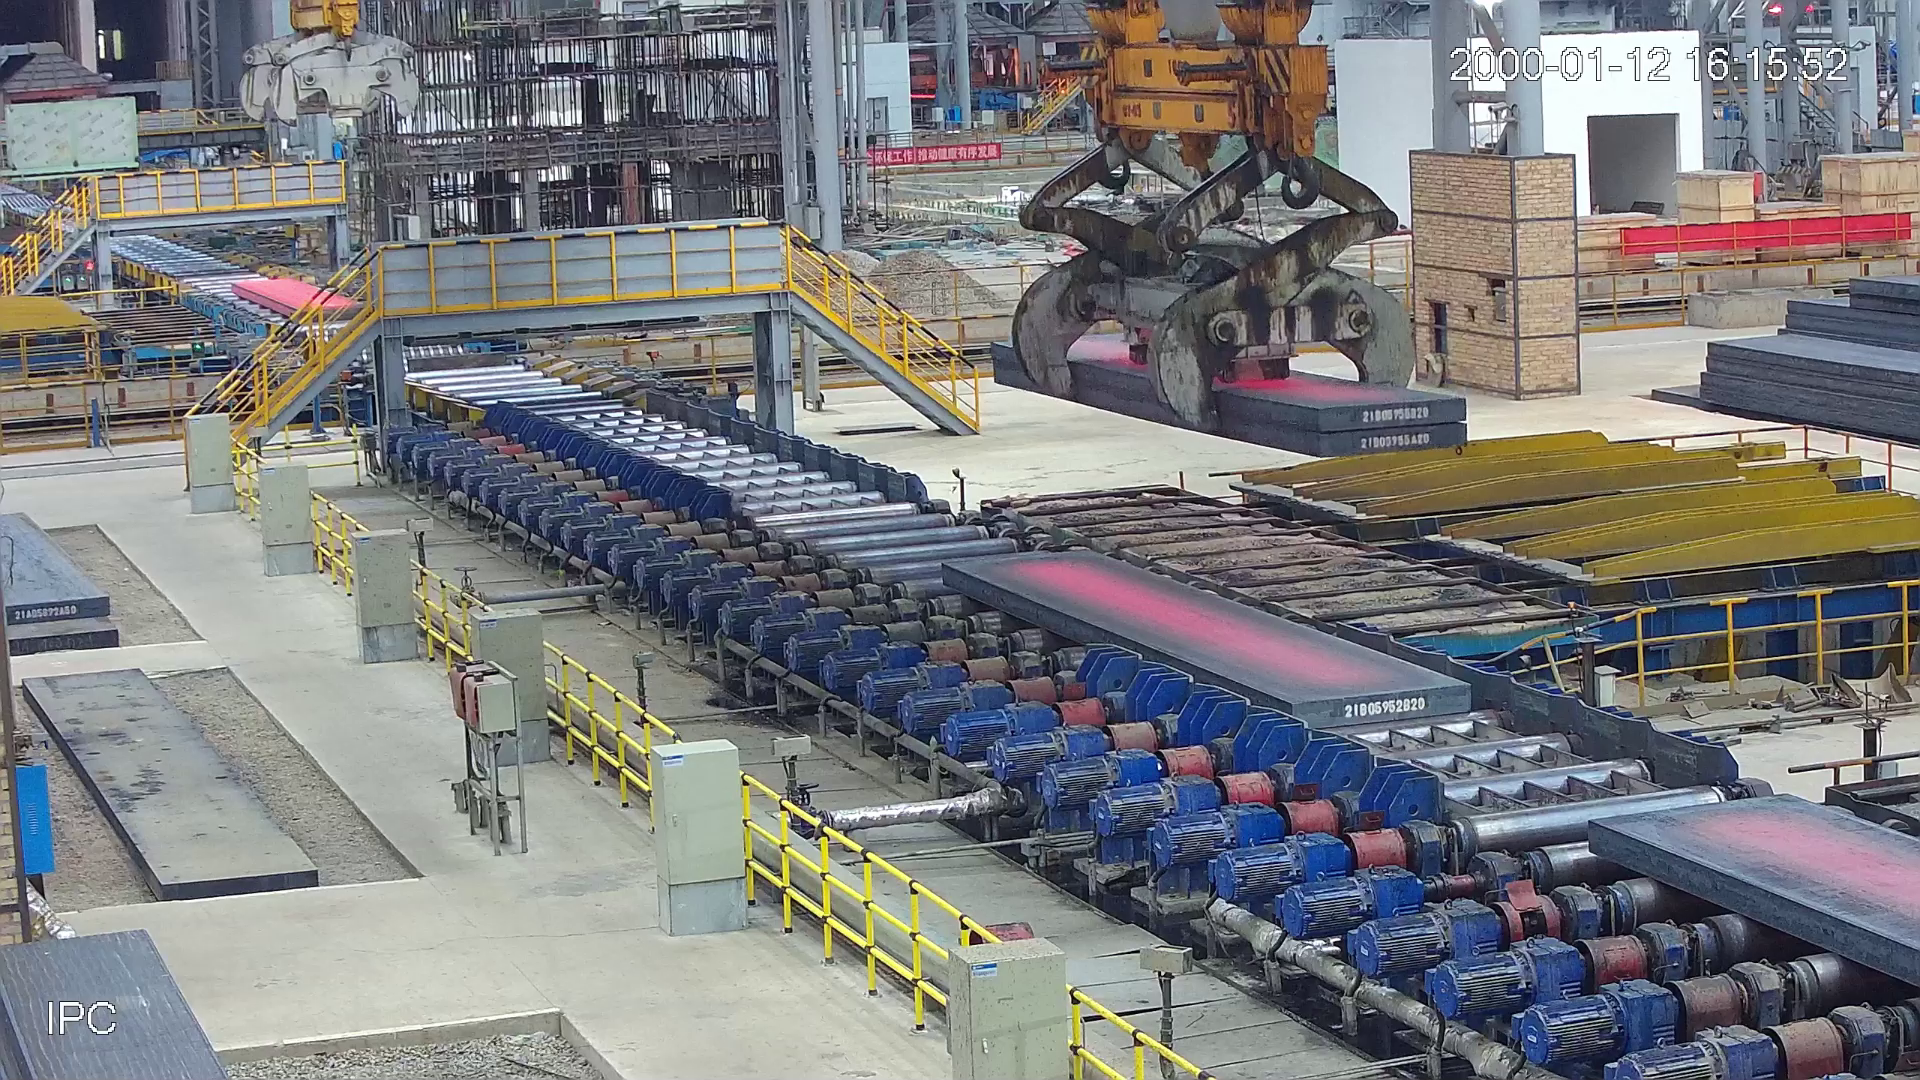crane: (237, 1, 419, 128)
craneandslab: (992, 1, 1469, 454)
slab: (943, 556, 1465, 725), (1584, 795, 1920, 996), (229, 278, 372, 320)
